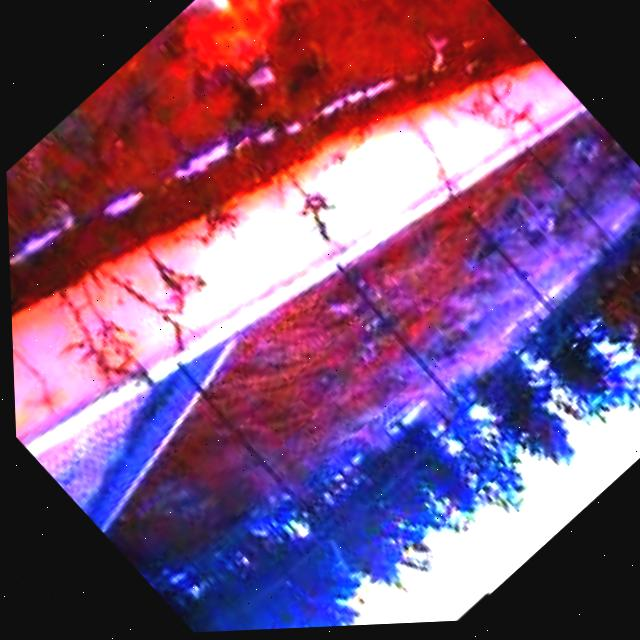Fire: (146, 0, 337, 115)
